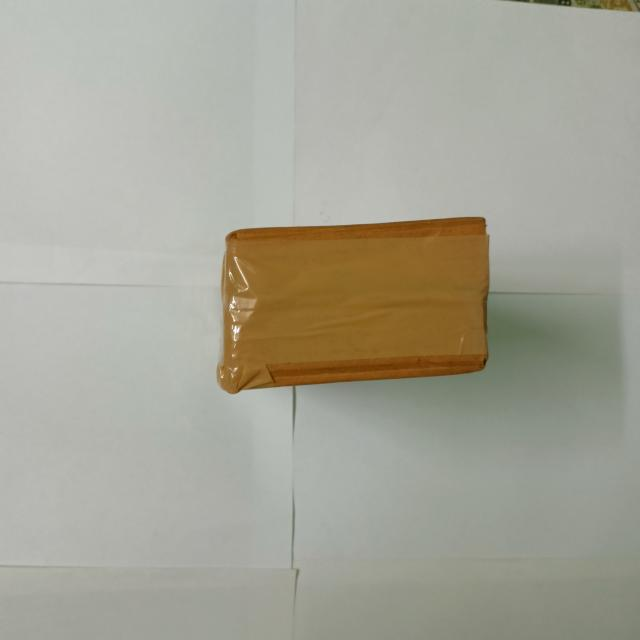box: (217, 219, 492, 397)
